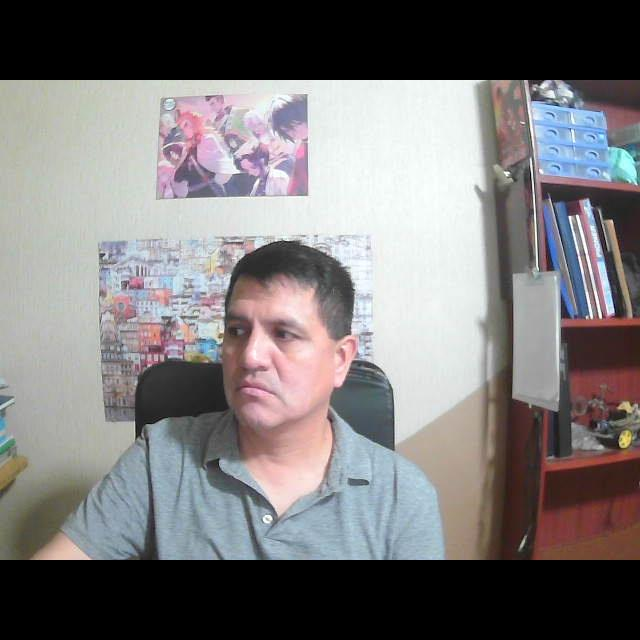cesar: (211, 229, 369, 457)
